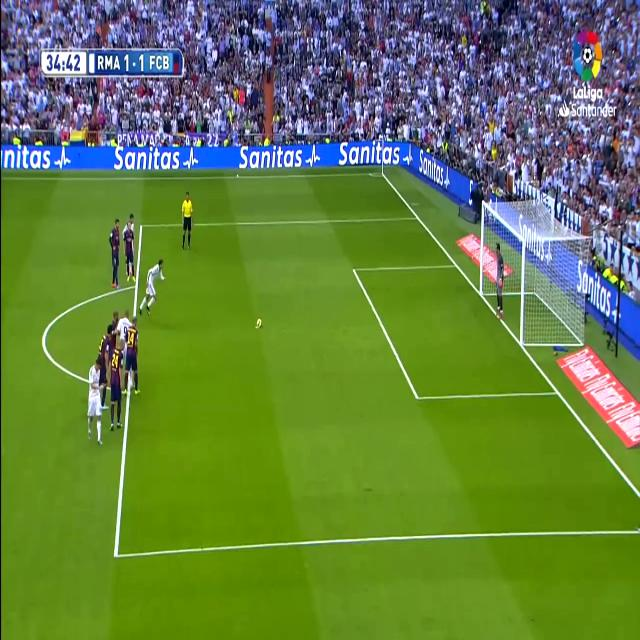bigarea_bottom_inner: (411, 381, 423, 411)
bigarea_top_inner: (350, 262, 358, 278)
bigarea_top_outter: (414, 210, 420, 223)
corner: (378, 168, 386, 179)
smallarea_bottom_outter: (552, 381, 562, 402)
smallarea_top_outter: (452, 255, 460, 272)
